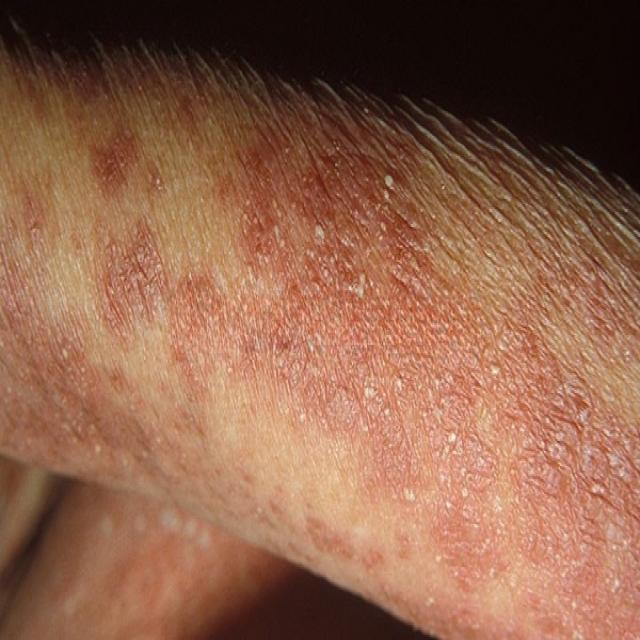Psoriasis Pustulosa: (0, 46, 639, 638)
